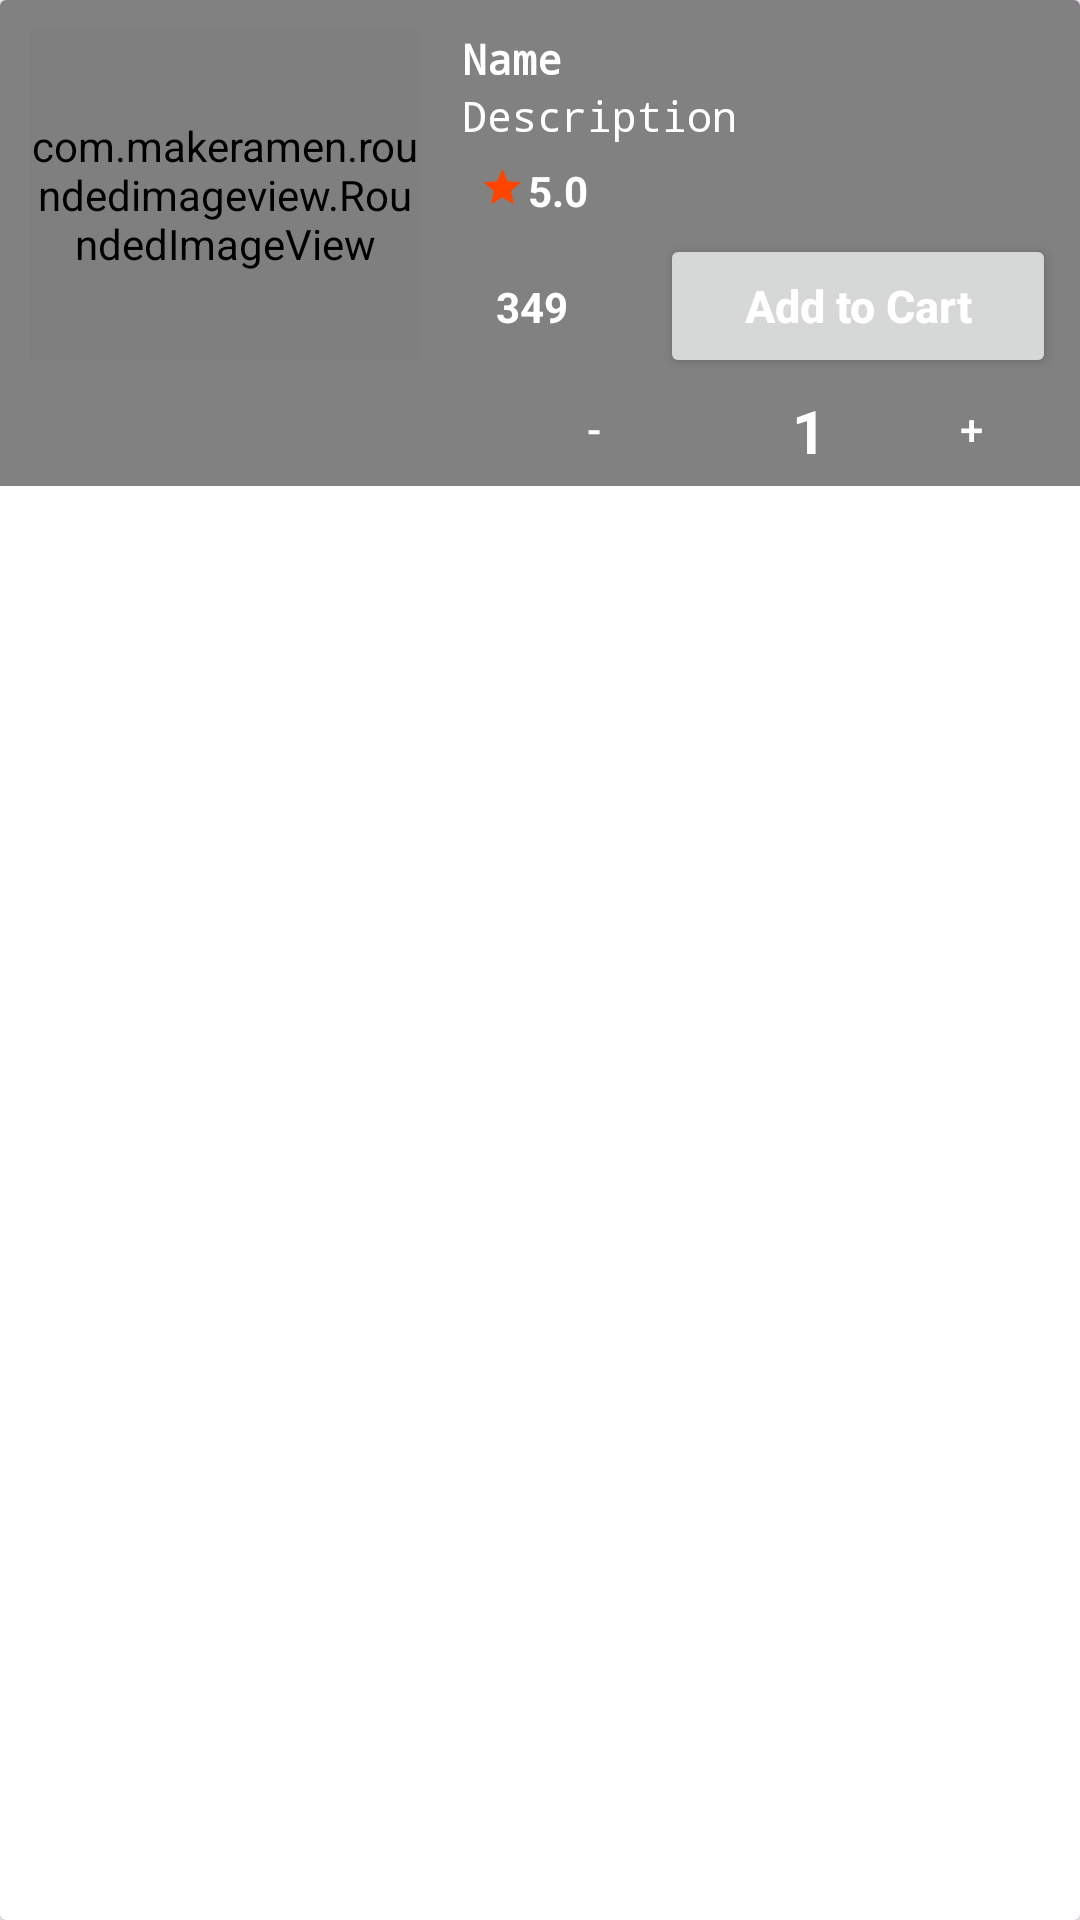

Locate icon controls on the screen. Image size 1080×1920, boxes as (x1, y1, x2, y2).
star: (484, 169, 521, 204)
